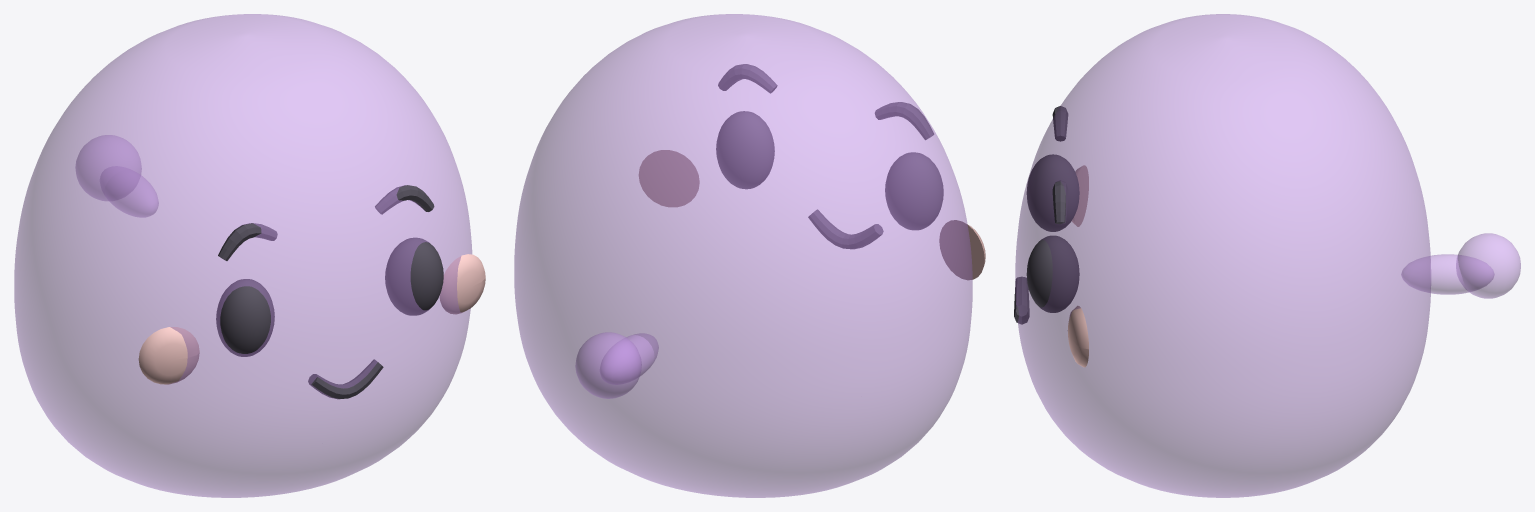
File: jelly-friends-playroom-jelly-plum-967c0b8a__27608.glb
3 views of the same model, side by side, from view 1: azimuth 30°, elevation 25°; view 2: azimuth 150°, elevation 25°; view 3: azimuth 270°, elevation 25° (orthographic).
Parts seen in each view (by area): view 1: body, tail, eye-right, eye-left, blush-left, blush-right, mouth, brow-left, brow-right; view 2: body, tail, eye-left, eye-right, blush-right, blush-left, mouth, brow-left, brow-right; view 3: body, tail, eye-right, eye-left, blush-right, mouth, blush-left, brow-right.
Boxes of the visible parts, x1,y1,x2,y2 form: body: (14,14,472,497); tail: (75,135,158,217); eye-right: (385,237,443,315); eye-left: (216,279,274,356); blush-left: (138,327,199,384); blush-right: (439,254,485,314); mouth: (308,359,383,399); brow-left: (218,223,277,260); brow-right: (375,185,434,214); body: (514,14,972,497); tail: (575,332,658,398); eye-left: (885,152,943,230); eye-right: (716,111,774,189); blush-right: (638,150,699,207); blush-left: (939,220,985,280); mouth: (808,209,883,249); brow-left: (875,102,933,139); brow-right: (718,64,777,93); body: (1015,14,1430,497); tail: (1401,233,1520,298); eye-right: (1026,235,1079,312); eye-left: (1026,154,1079,231); blush-right: (1067,306,1088,367); mouth: (1014,276,1029,324); blush-left: (1071,165,1088,226); brow-right: (1052,180,1068,224).
Size of the model in its own units: 0.296 by 0.288 by 0.3246.
